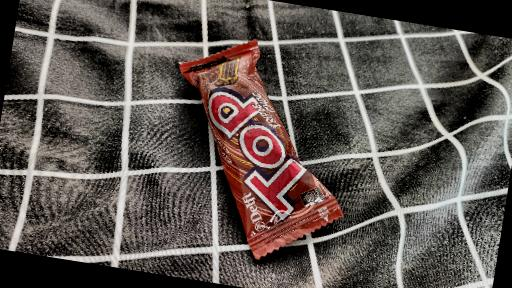top: (152, 25, 372, 275)
